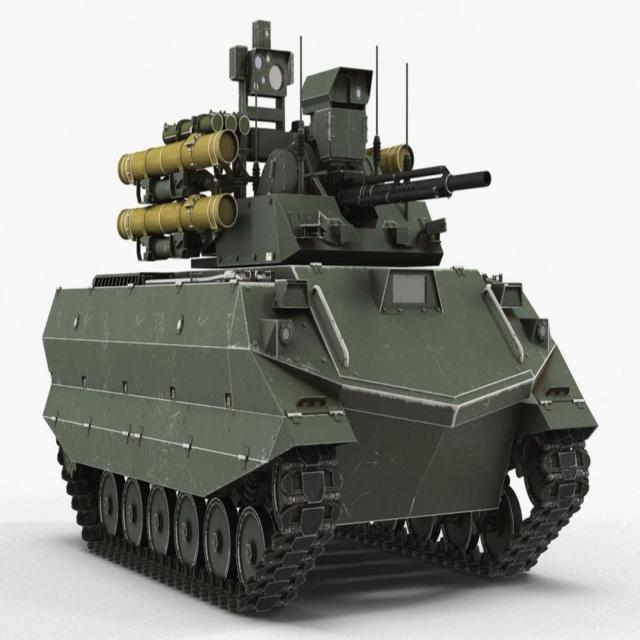Tanks: (23, 31, 567, 604)
